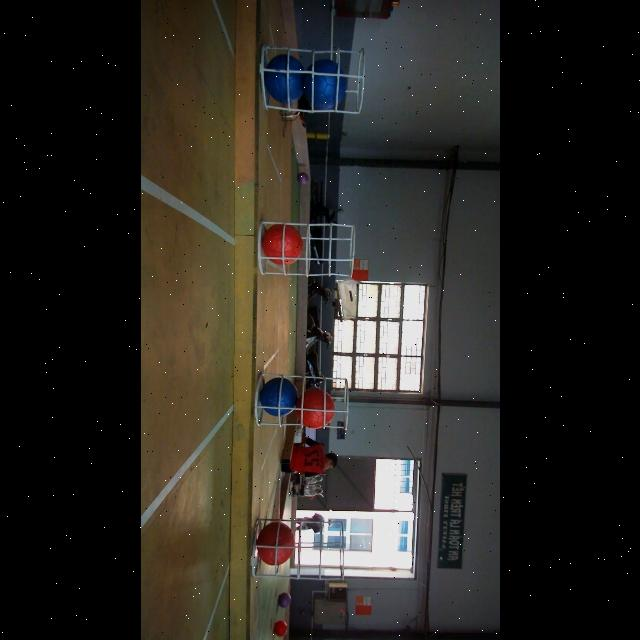B: (304, 58, 346, 110), (264, 54, 306, 104), (259, 378, 299, 417)
R: (256, 522, 294, 566), (262, 223, 302, 264), (296, 388, 334, 430)
